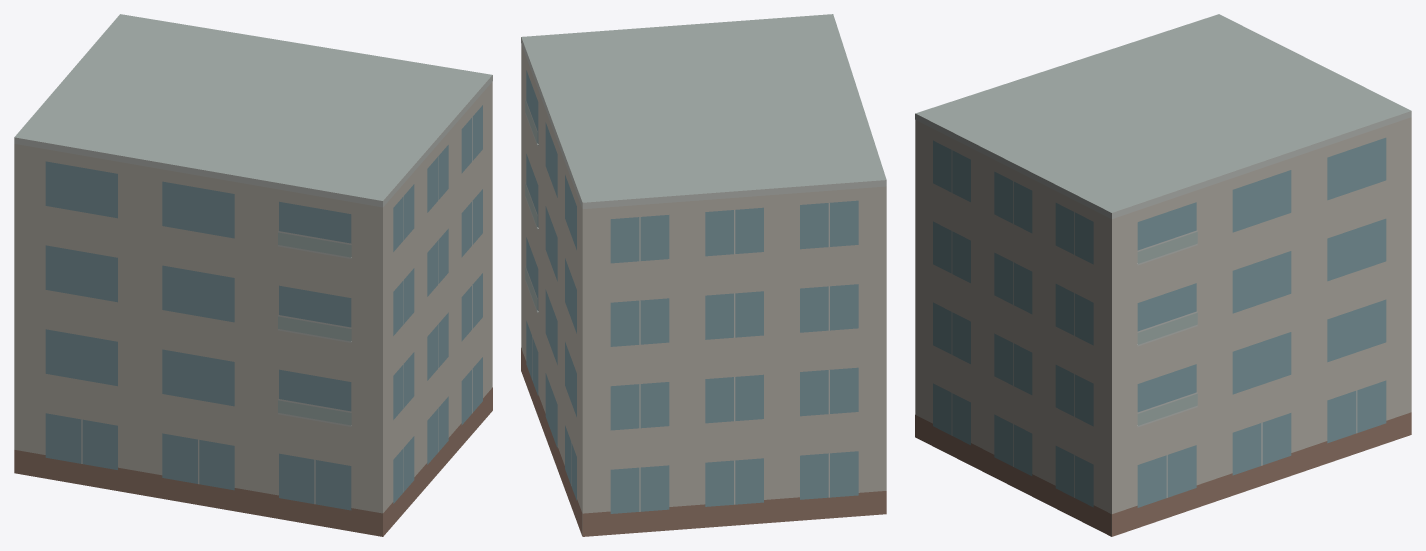
The model's file is survey-upis-33011649.glb.
3 renders of one model, left to right at view 1: azimuth 30°, elevation 25°; view 2: azimuth 150°, elevation 25°; view 3: azimuth 270°, elevation 25°, orthographic. The views are drawn at different scales.
Visible parts, largest first — view 1: survey-upis-33011649.tmp; view 2: survey-upis-33011649.tmp; view 3: survey-upis-33011649.tmp.
Part boxes in pixels (x1,y1,x2,y2): survey-upis-33011649.tmp: [14, 14, 492, 536]; survey-upis-33011649.tmp: [521, 14, 886, 536]; survey-upis-33011649.tmp: [915, 14, 1411, 536].
Bounding box in the file's own units: 16.75 × 12.7 × 17.65.
